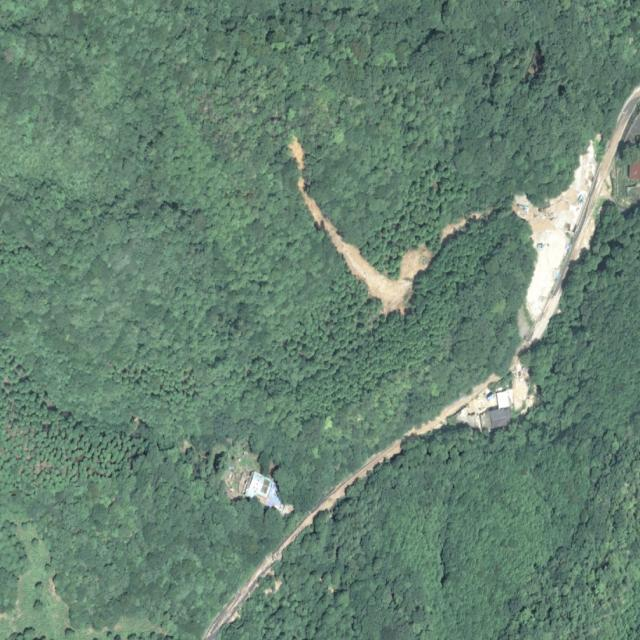landslide: (286, 355, 536, 545), (289, 137, 433, 314), (514, 141, 611, 351)
